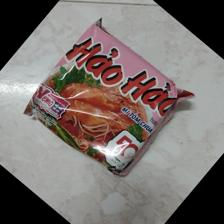Haohao: (25, 16, 198, 180)
